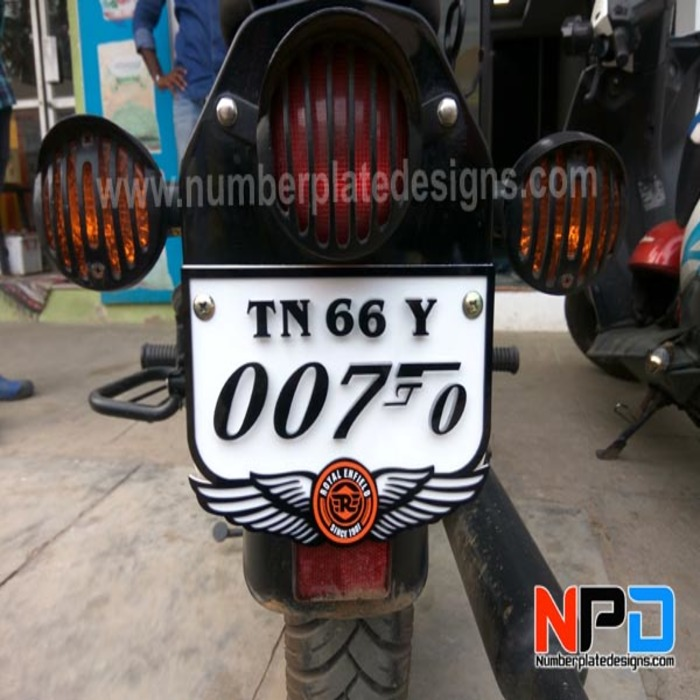n: (181, 266, 495, 481)
